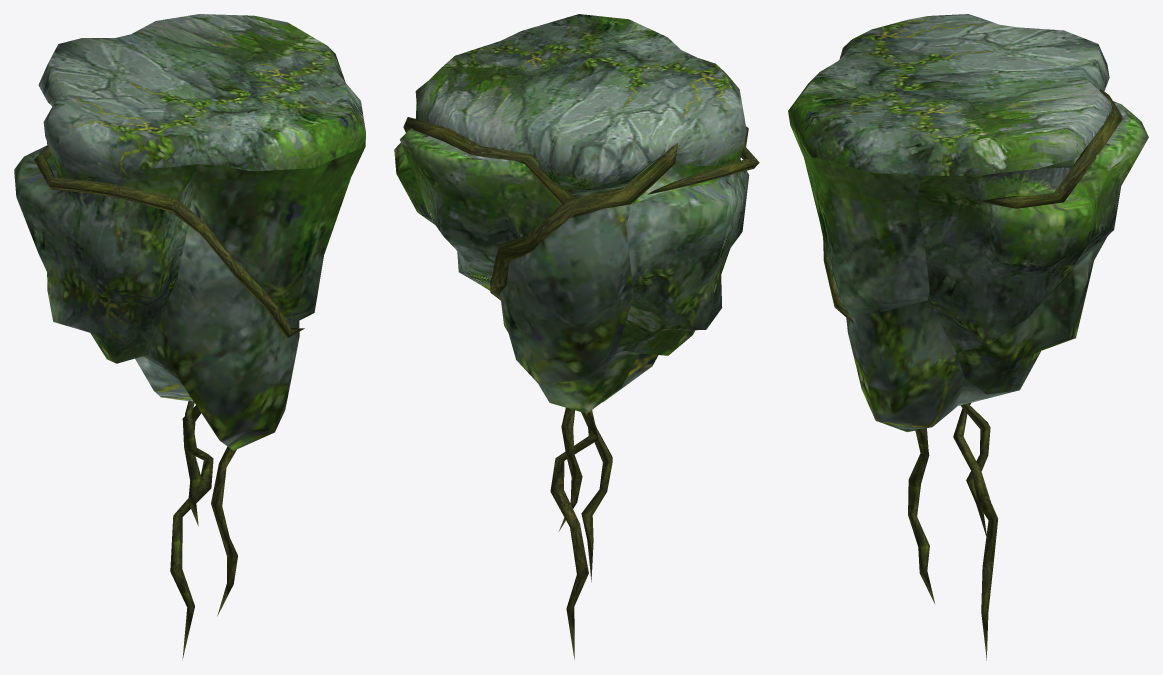
The model's file is environment_Building_bangpai_001_a.FBX.
3 views of the same model, side by side, from view 1: azimuth 30°, elevation 25°; view 2: azimuth 150°, elevation 25°; view 3: azimuth 270°, elevation 25° (orthographic). The views are drawn at different scales.
Parts seen in each view (by area): view 1: environment_Building_bangpai_001_a02, environment_Building_bangpai_001_a01, environment_Building_bangpai_001_a03; view 2: environment_Building_bangpai_001_a02, environment_Building_bangpai_001_a01, environment_Building_bangpai_001_a03; view 3: environment_Building_bangpai_001_a02, environment_Building_bangpai_001_a01, environment_Building_bangpai_001_a03.
Part boxes in pixels (bbox=[...]): environment_Building_bangpai_001_a02: bbox=[14, 105, 365, 450]; environment_Building_bangpai_001_a01: bbox=[38, 14, 365, 198]; environment_Building_bangpai_001_a03: bbox=[34, 105, 304, 658]; environment_Building_bangpai_001_a02: bbox=[394, 103, 749, 413]; environment_Building_bangpai_001_a01: bbox=[415, 14, 746, 188]; environment_Building_bangpai_001_a03: bbox=[403, 117, 759, 659]; environment_Building_bangpai_001_a02: bbox=[790, 101, 1148, 432]; environment_Building_bangpai_001_a01: bbox=[788, 14, 1111, 175]; environment_Building_bangpai_001_a03: bbox=[823, 89, 1122, 660].
Bounding box in the file's own units: 725 × 716 × 1279.
